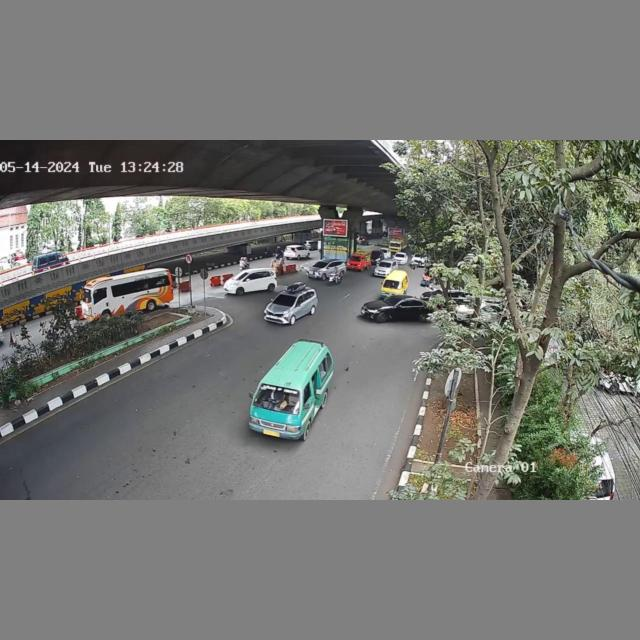windshield: (255, 381, 304, 418), (270, 292, 300, 310)
